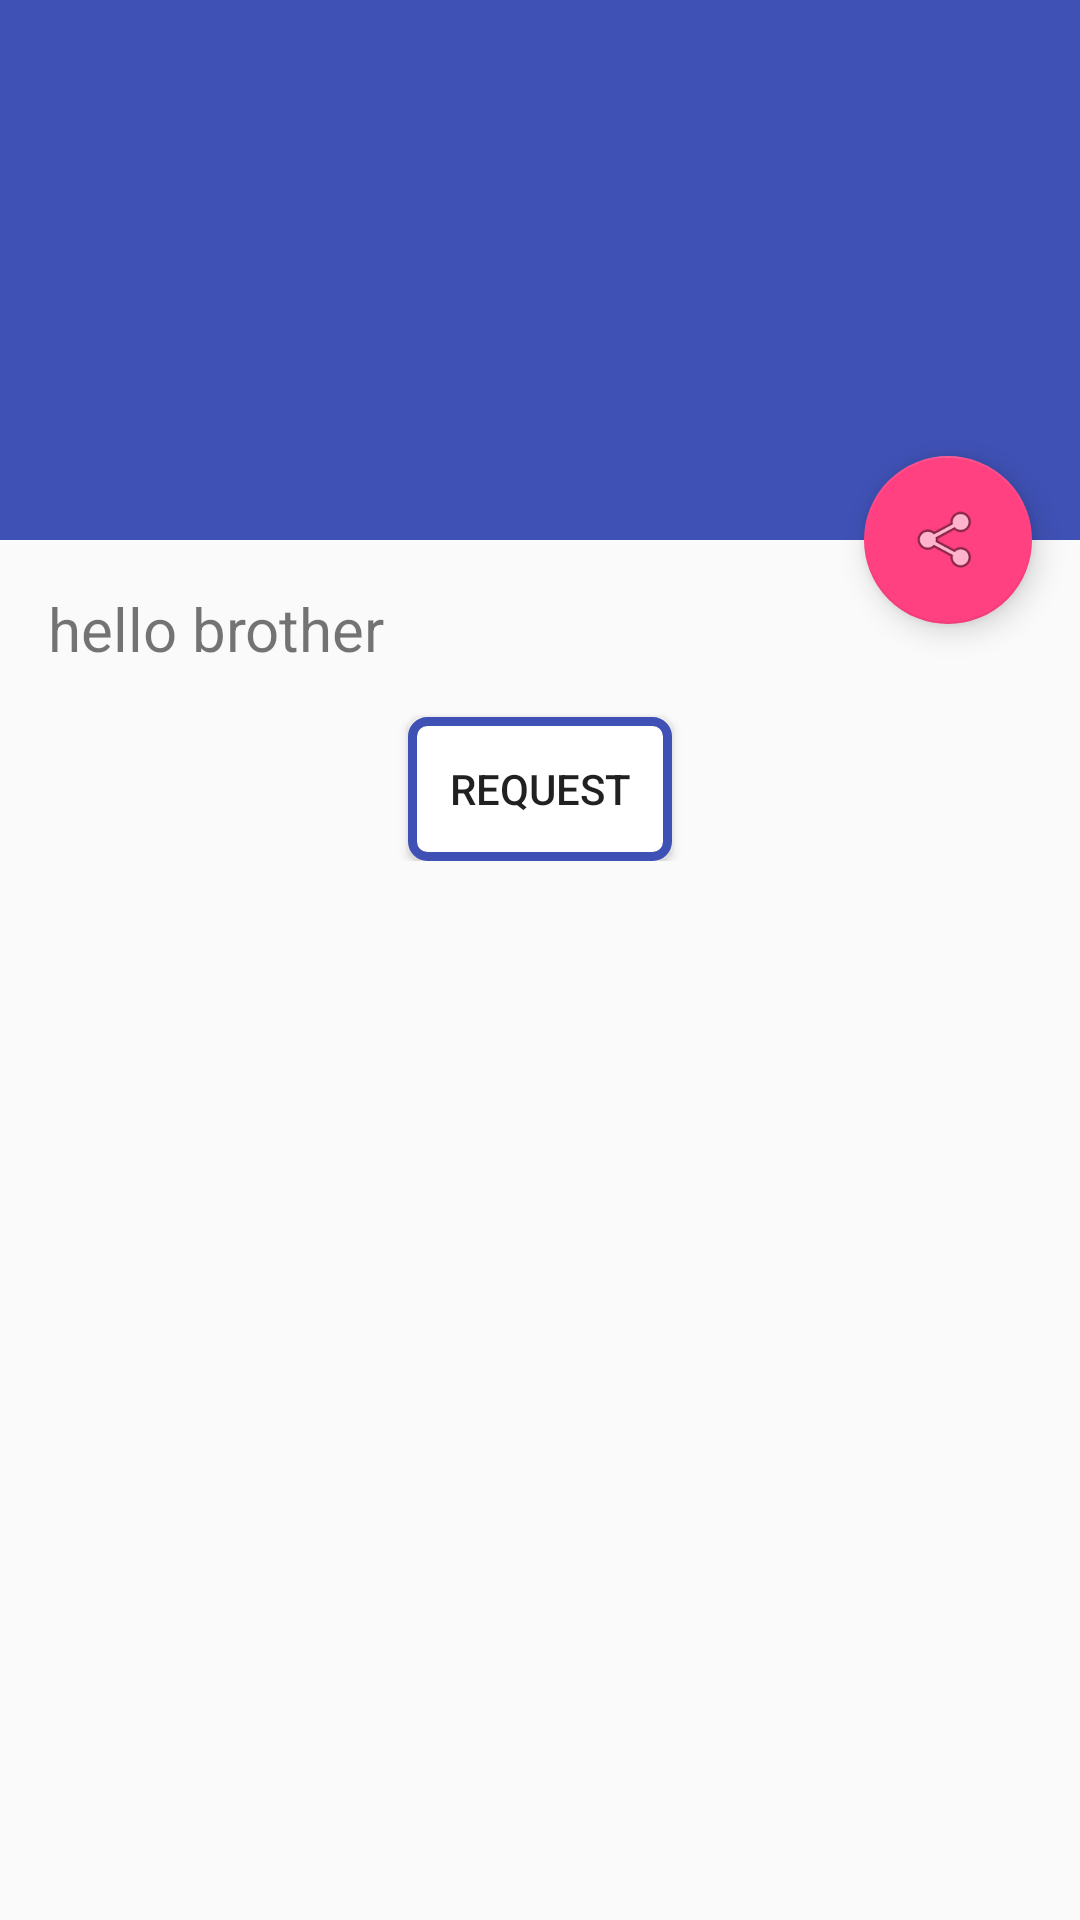

Point at icon controls on the screen. Image size 1080w x 1920h, points as [x,y].
share: [948,540]
